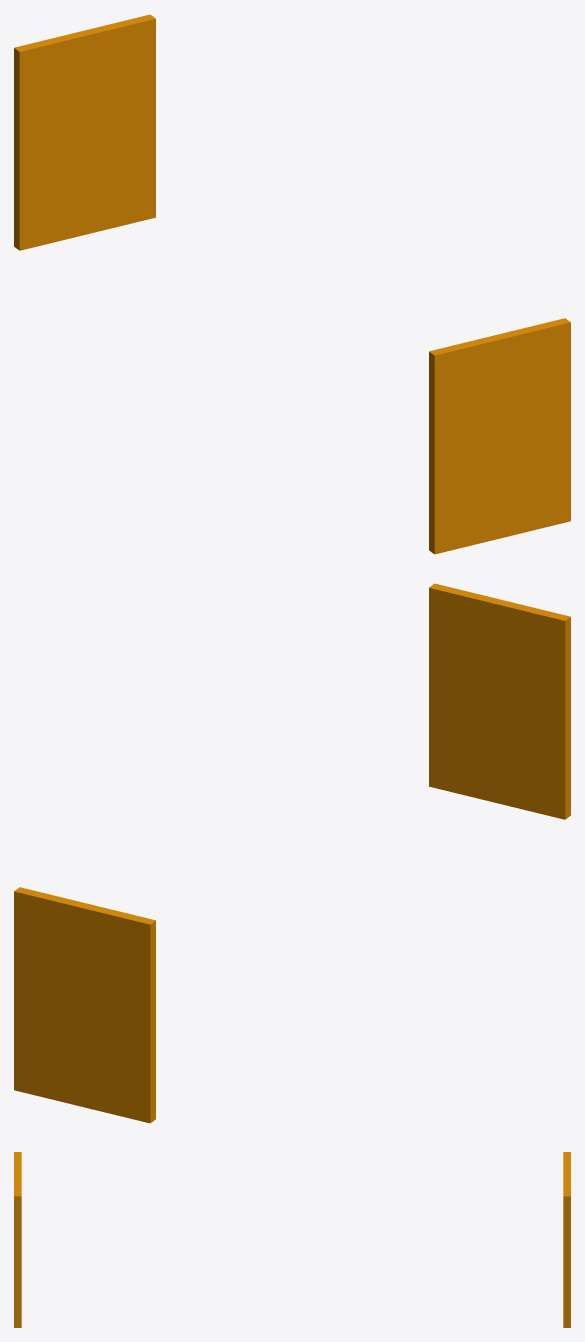
File: functional.glb
The picture shows the model from 3 angles, top to bottom: view 1: azimuth 30°, elevation 25°; view 2: azimuth 150°, elevation 25°; view 3: azimuth 270°, elevation 25°; orthographic projection. The views are drawn at different scales.
Parts seen in each view (by area): view 1: sdor_1, ssdor_2; view 2: sdor_1, ssdor_2; view 3: sdor_1, ssdor_2.
Boxes of the visible parts, <box> form: sdor_1: <box>429,318,570,554</box>; ssdor_2: <box>14,14,155,250</box>; sdor_1: <box>429,583,570,819</box>; ssdor_2: <box>14,887,155,1123</box>; sdor_1: <box>14,1152,21,1327</box>; ssdor_2: <box>563,1152,570,1327</box>.
Size of the model in its own units: 2.66 by 3.7 by 14.2.
